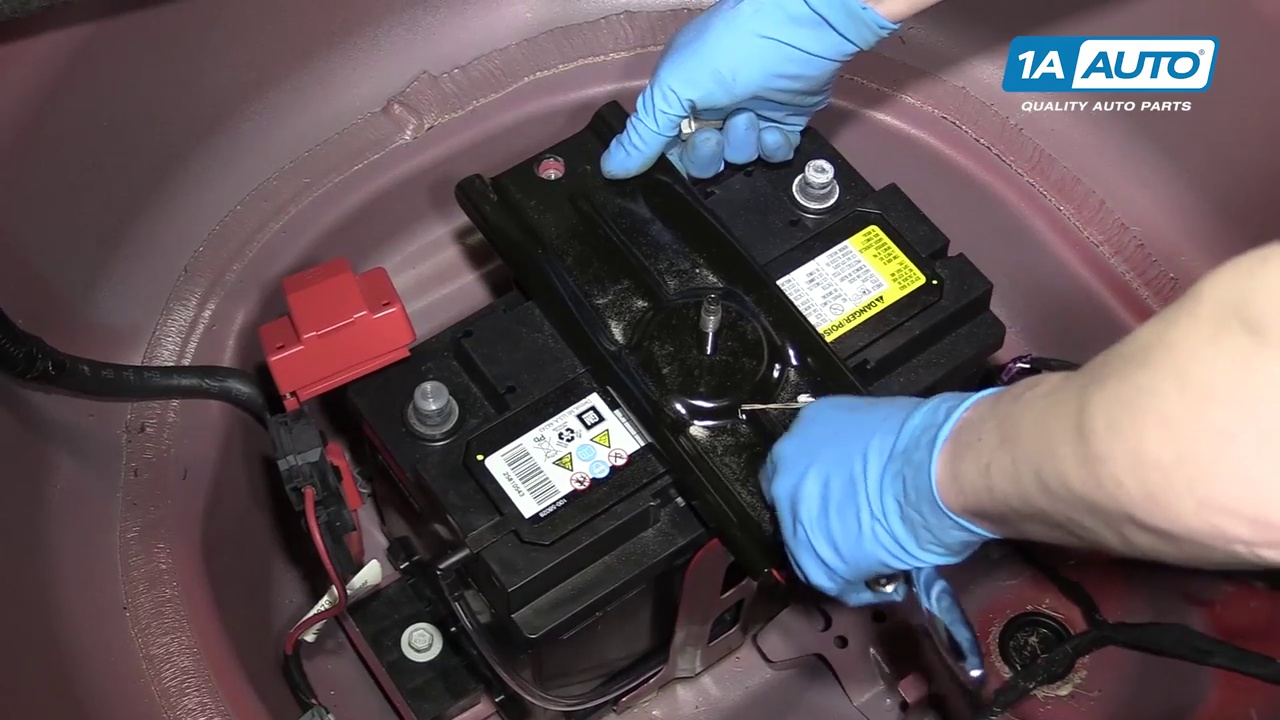battery: (342, 119, 993, 602)
neg_disconnected: (767, 148, 868, 228)
pos_disconnected: (235, 235, 489, 451)
